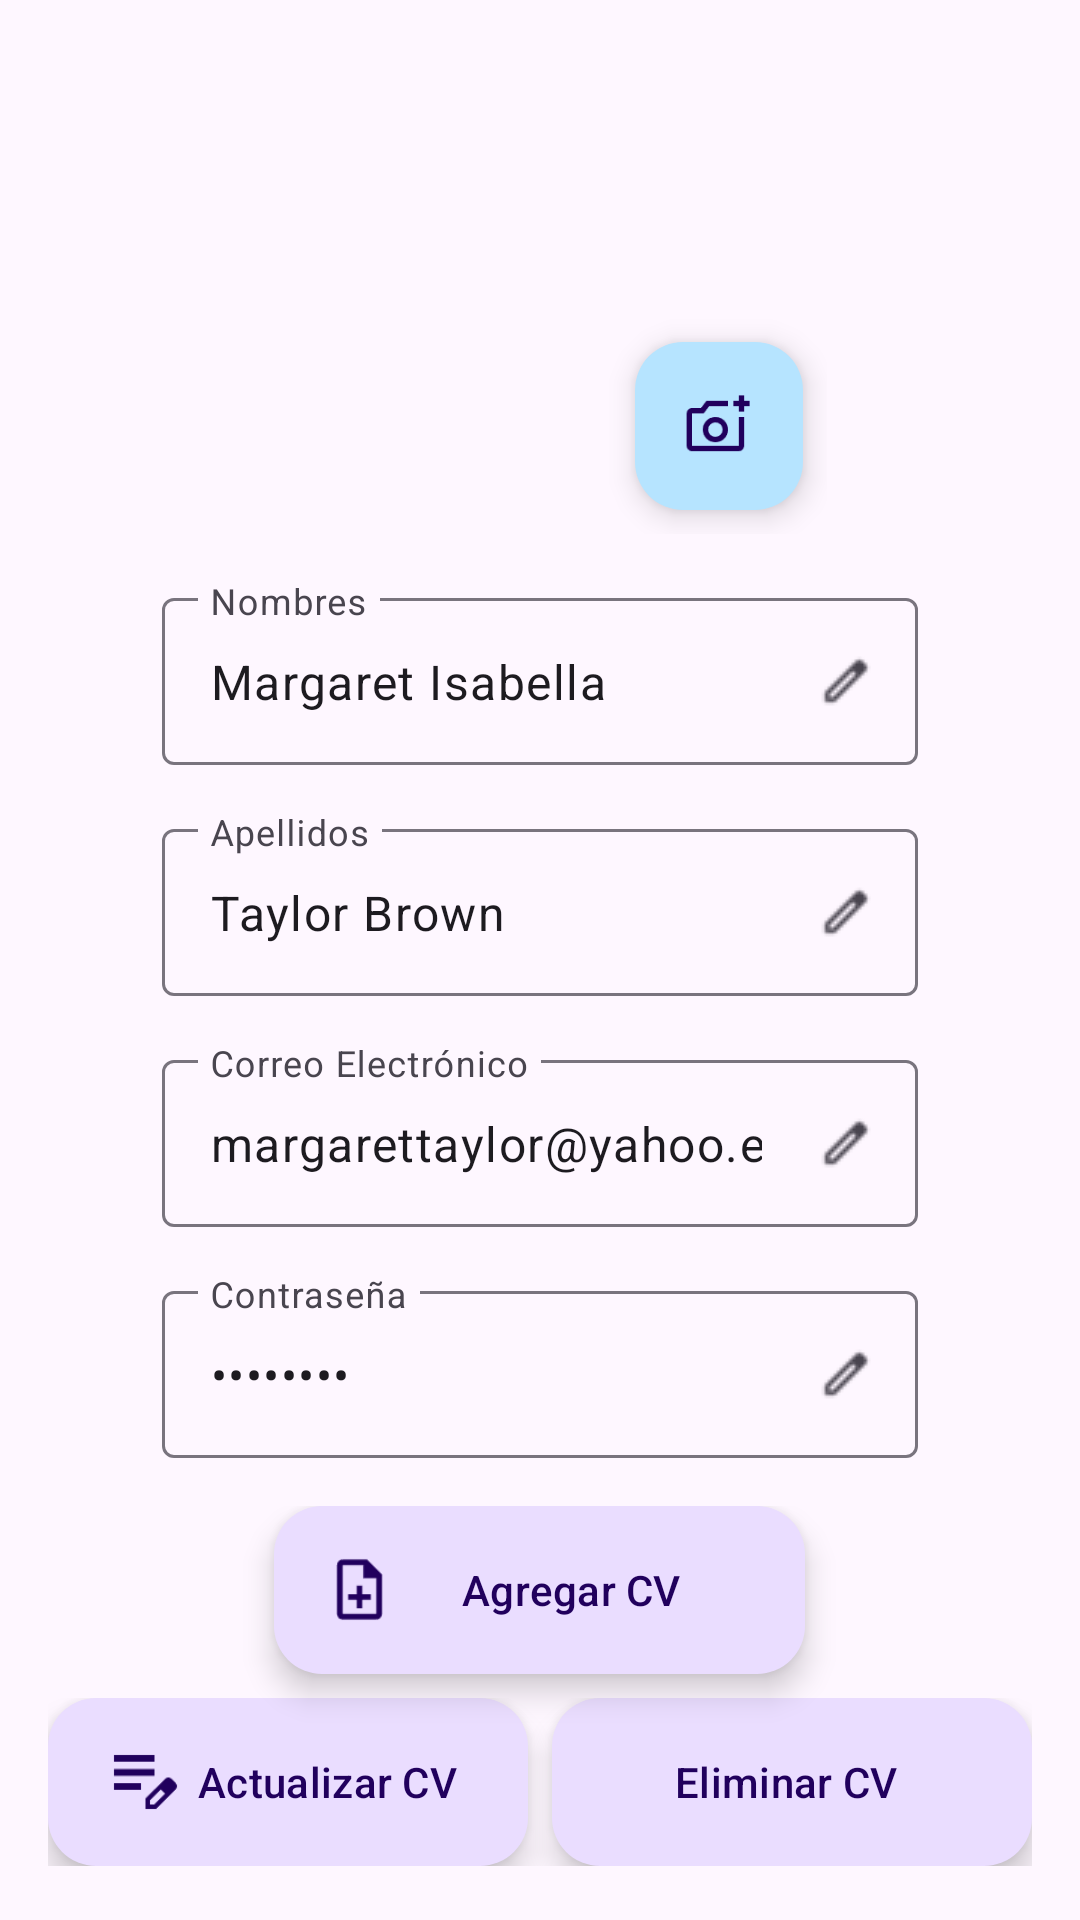

Icon click points for this 1080px x 1920px phone screenshot, format (x,y):
camera: (719,426)
